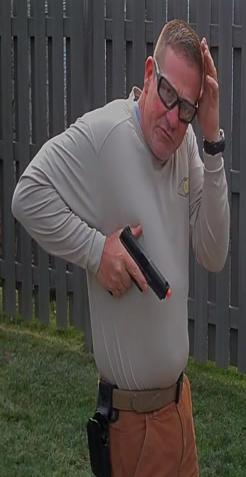pistol: (109, 223, 173, 302)
